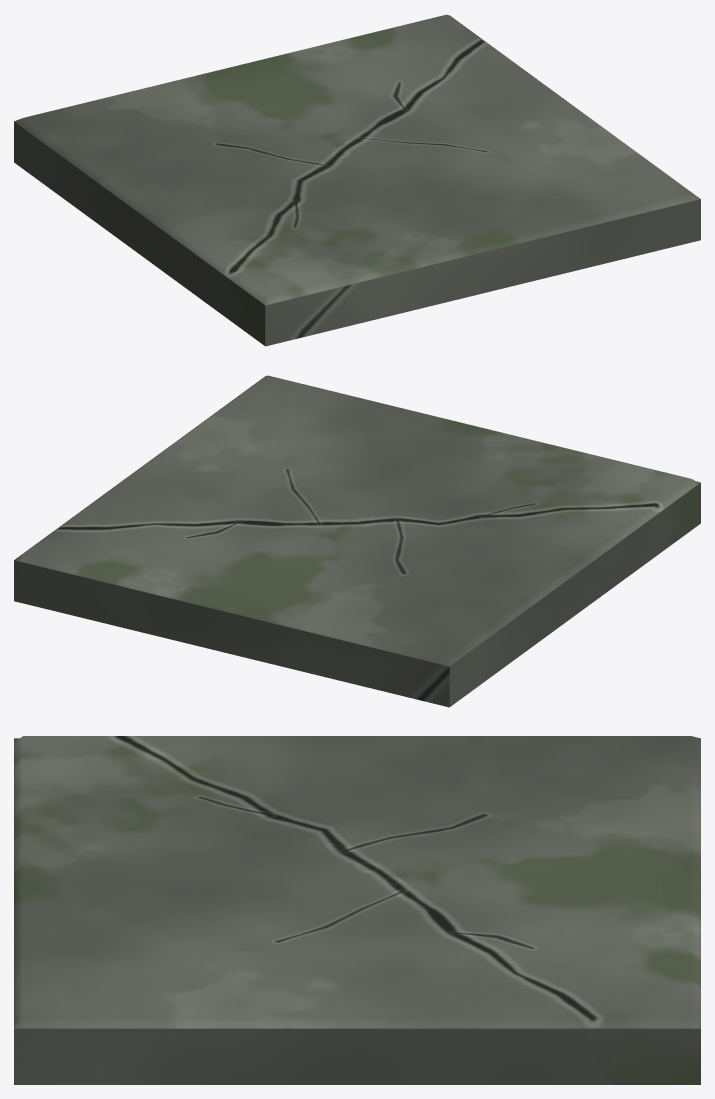
The model's file is Floor001.fbx.
The picture shows the model from 3 angles, top to bottom: view 1: azimuth 30°, elevation 25°; view 2: azimuth 150°, elevation 25°; view 3: azimuth 270°, elevation 25°; orthographic projection. The views are drawn at different scales.
Parts seen in each view (by area): view 1: SM_Floor_01; view 2: SM_Floor_01; view 3: SM_Floor_01.
Boxes of the visible parts, x1,y1,x2,y2 form: SM_Floor_01: (14, 14, 700, 346); SM_Floor_01: (14, 375, 700, 707); SM_Floor_01: (14, 736, 700, 1084).
Bounding box in the file's own units: 300 × 31.53 × 300.
Materials: 1 (1 with a texture image).
